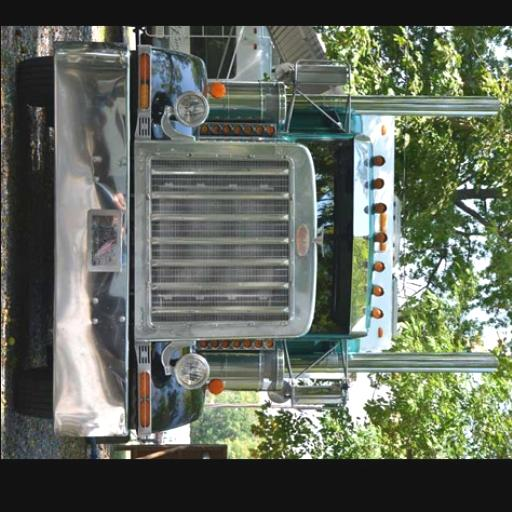truck: (13, 44, 498, 436)
